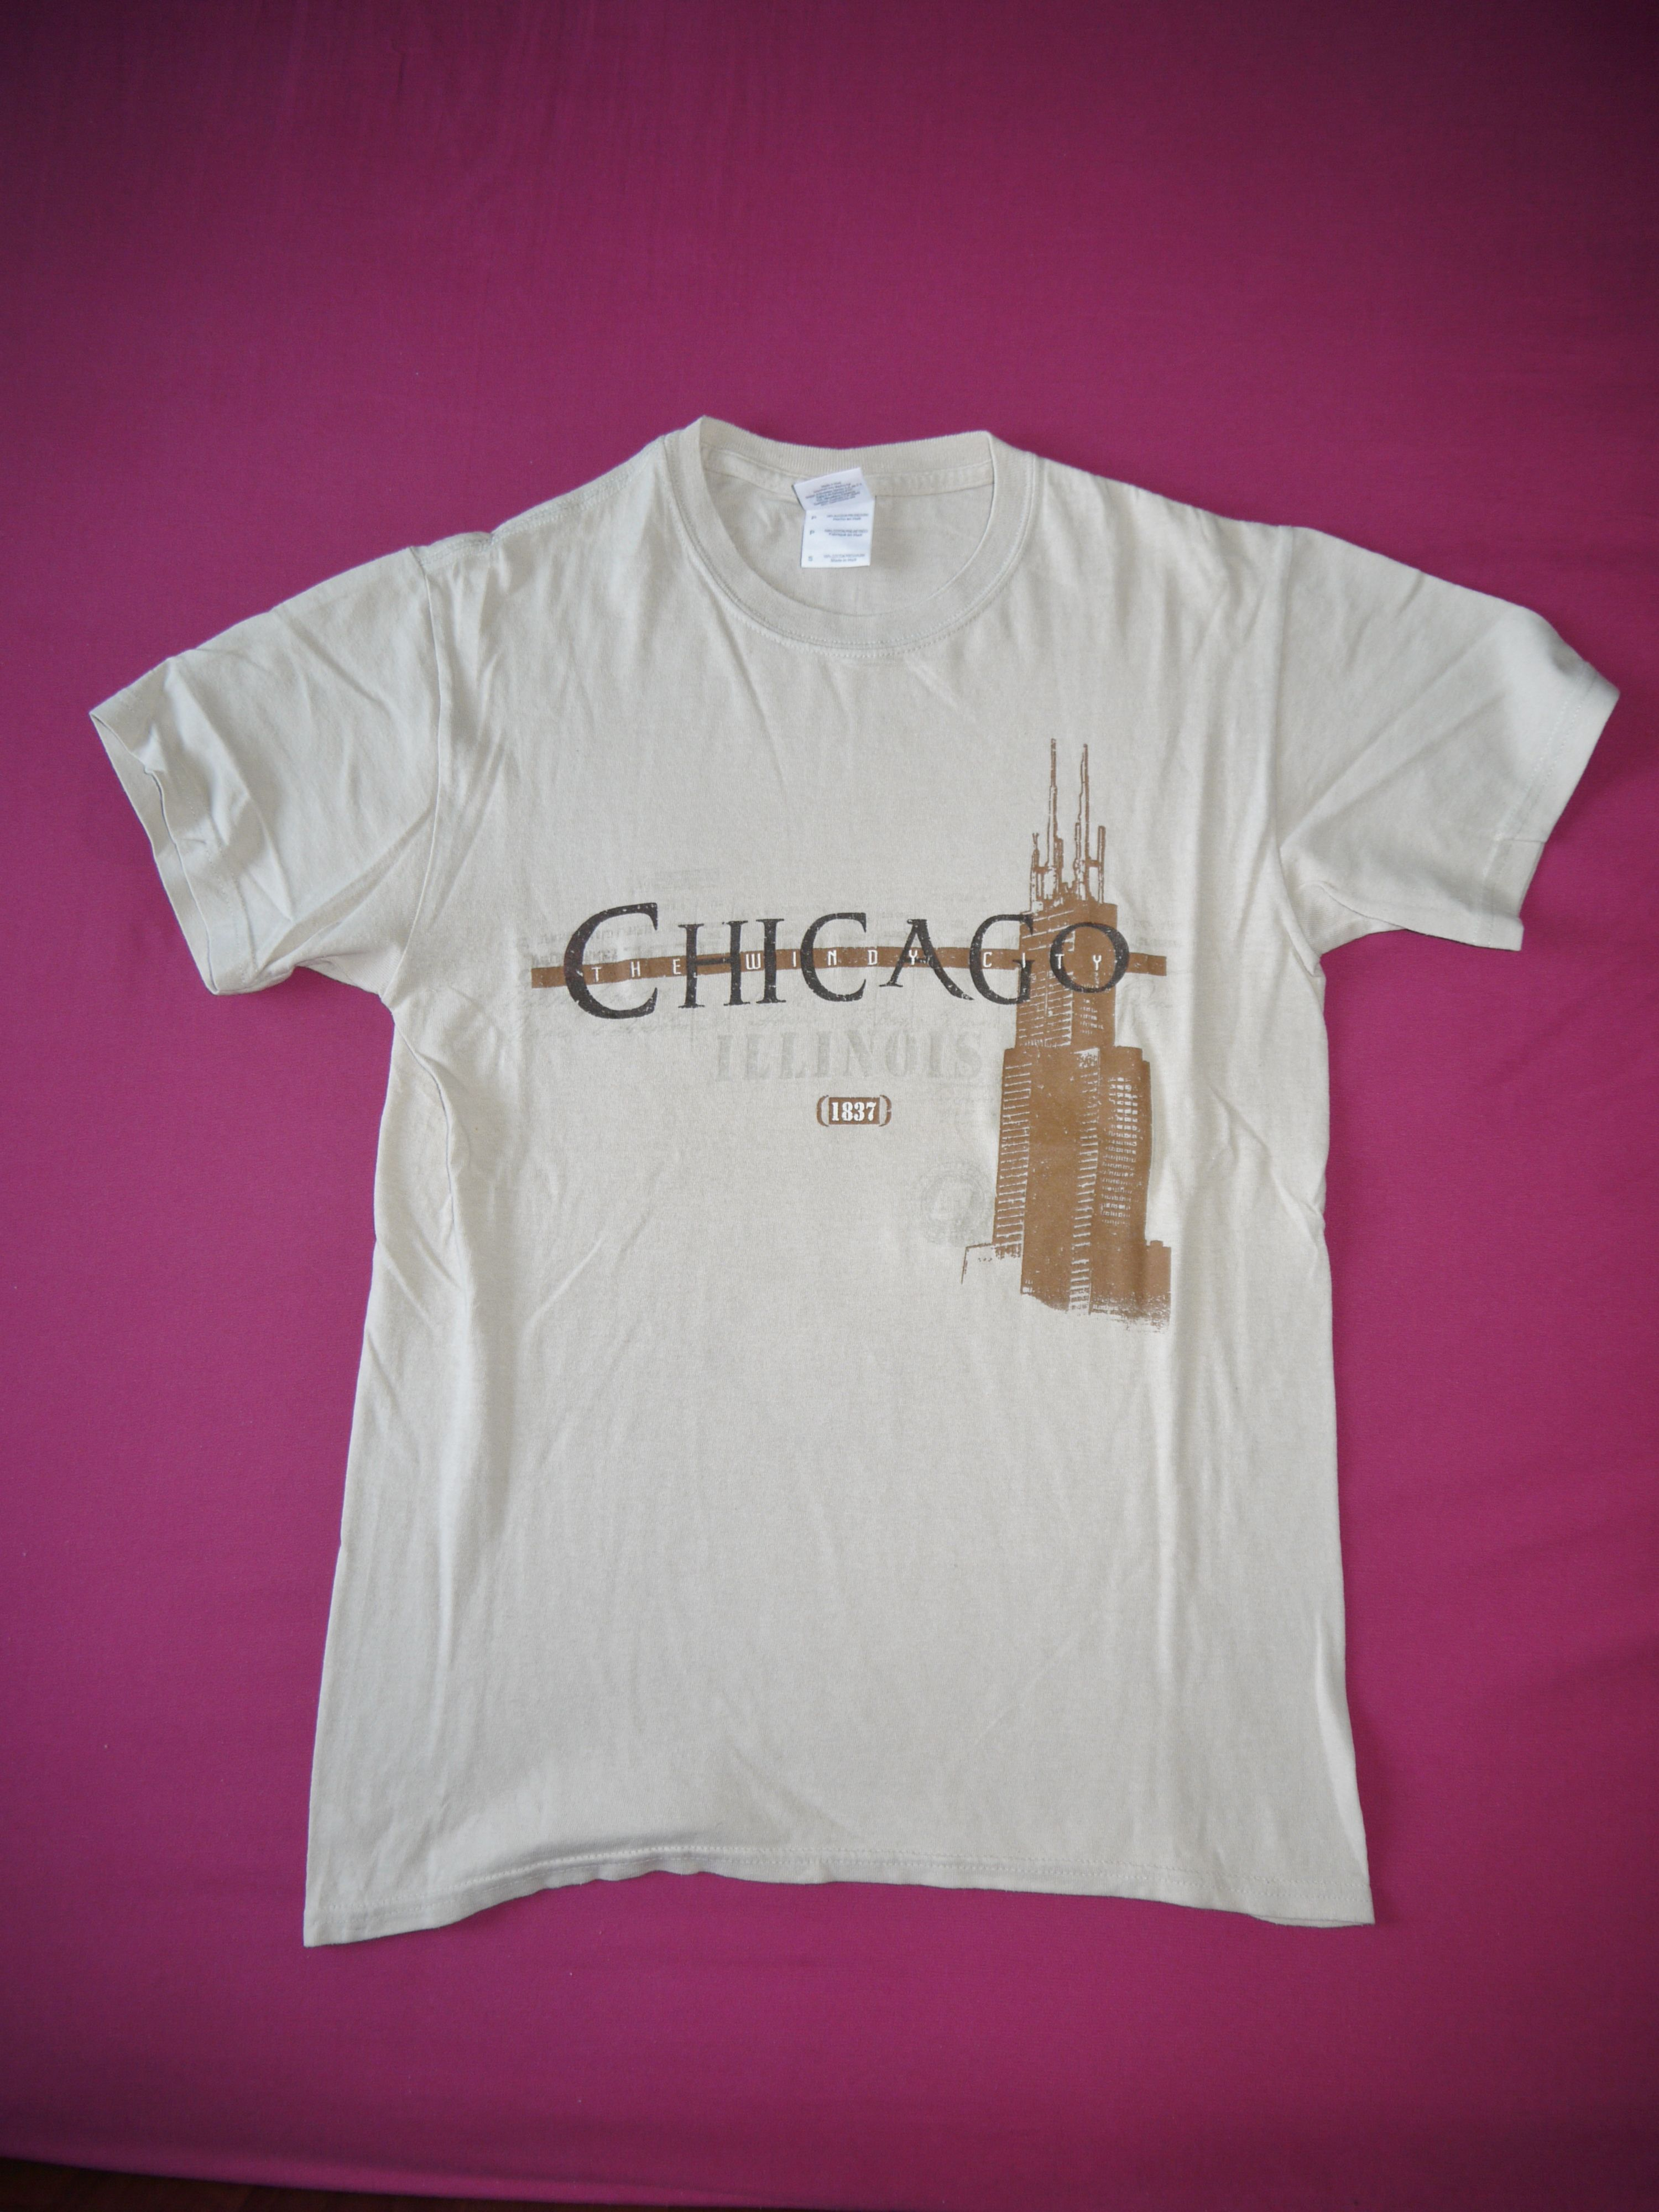clothes: (92, 408, 1619, 1918)
